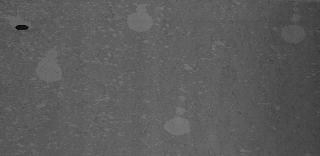punching hole: (14, 24, 30, 32)
